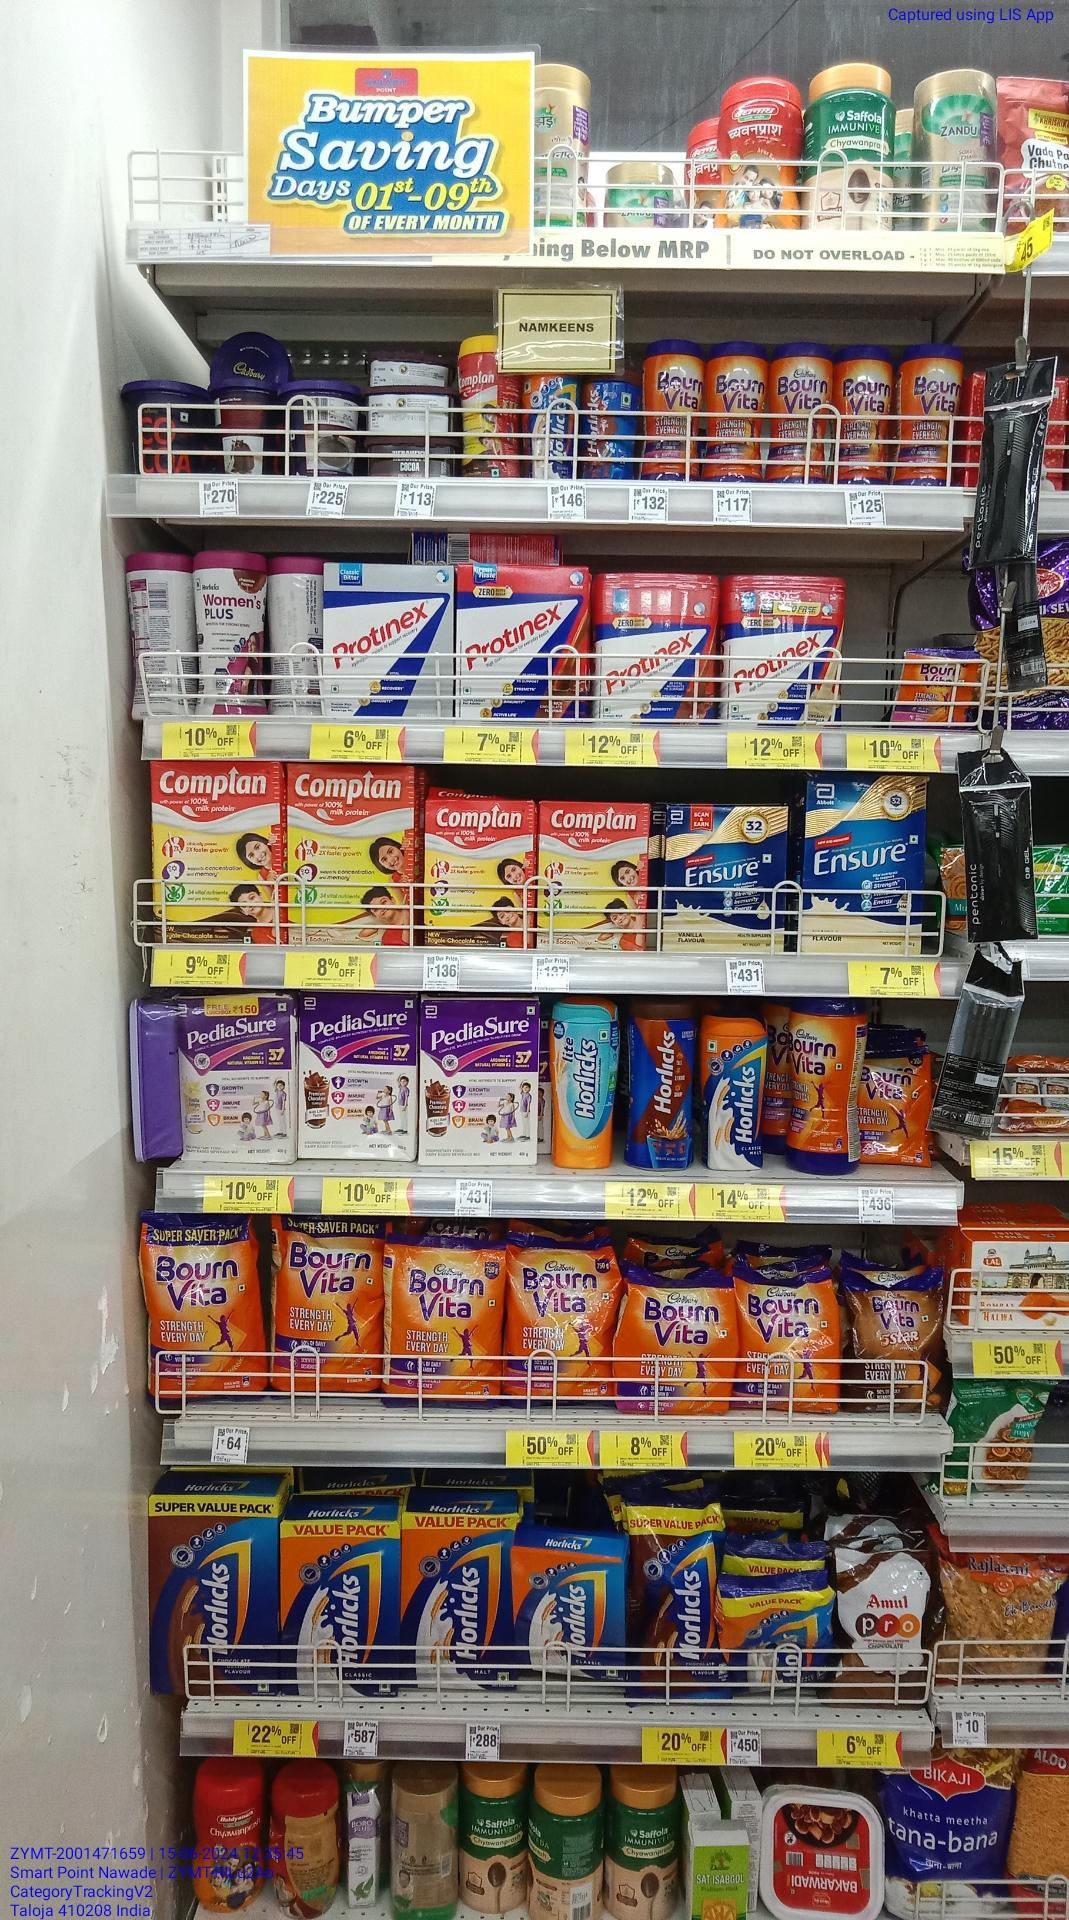BOURN_VITA_1_KG_POUCH: (146, 1216, 261, 1399), (270, 1224, 375, 1396)
BOURN_VITA_200_G_JAR: (766, 342, 829, 480), (895, 345, 953, 486), (641, 342, 700, 479), (706, 341, 761, 480), (835, 350, 889, 484)
BOURN_VITA_500_G_JAR: (791, 999, 860, 1176)
BOURN_VITA_500_G_POUCH: (619, 1276, 733, 1417), (740, 1269, 841, 1420)
BOURN_VITA_750_G_POUCH: (504, 1233, 615, 1412), (386, 1238, 498, 1409)
BOURN_VITA_FIVE_STAR_MAGIC_500_G_POUCH: (852, 1270, 940, 1415)
COMPLAN_CHOCOLATE_200_GMS_JAR: (461, 358, 519, 475), (582, 375, 639, 479)
COMPLAN_CHOCOLATE_200_GMS_PACK: (423, 800, 532, 946)
COMPLAN_CHOCOLATE_500_GMS_PACK: (153, 765, 286, 947)
COMPLAN_KESAR_BADAM_200_GMS_PACK: (540, 801, 645, 946)
COMPLAN_KESAR_BADAM_500_GMS_PACK: (291, 763, 417, 946)
ENSURE_VANILLA_400_G_PACK: (803, 775, 920, 957)
HORLICKS_LITE_REGULAR_MALT_500_GM_JAR: (548, 1000, 617, 1173)
HORLICK_CHOCOLATE_500_G_JAR: (628, 1001, 691, 1171)
HORLICK_CLASSIC_MALT_200_G_JAR: (524, 375, 575, 476)
HORLICK_CLASSIC_MALT_500_G_JAR: (700, 1016, 764, 1171)
PROTINEX_CHOCOLATE_400_G_JAR: (595, 572, 714, 726)
PROTINEX_VANILLA_400_G_JAR: (721, 576, 844, 725)
